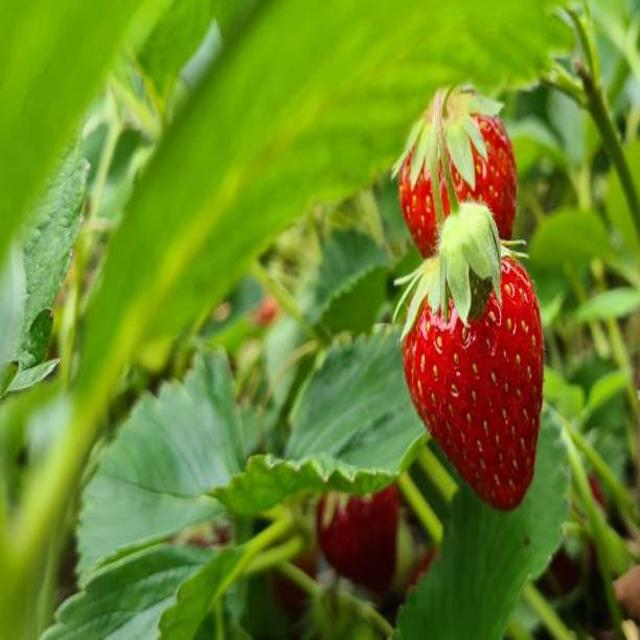Saludable: (403, 254, 550, 506), (399, 100, 517, 260)
